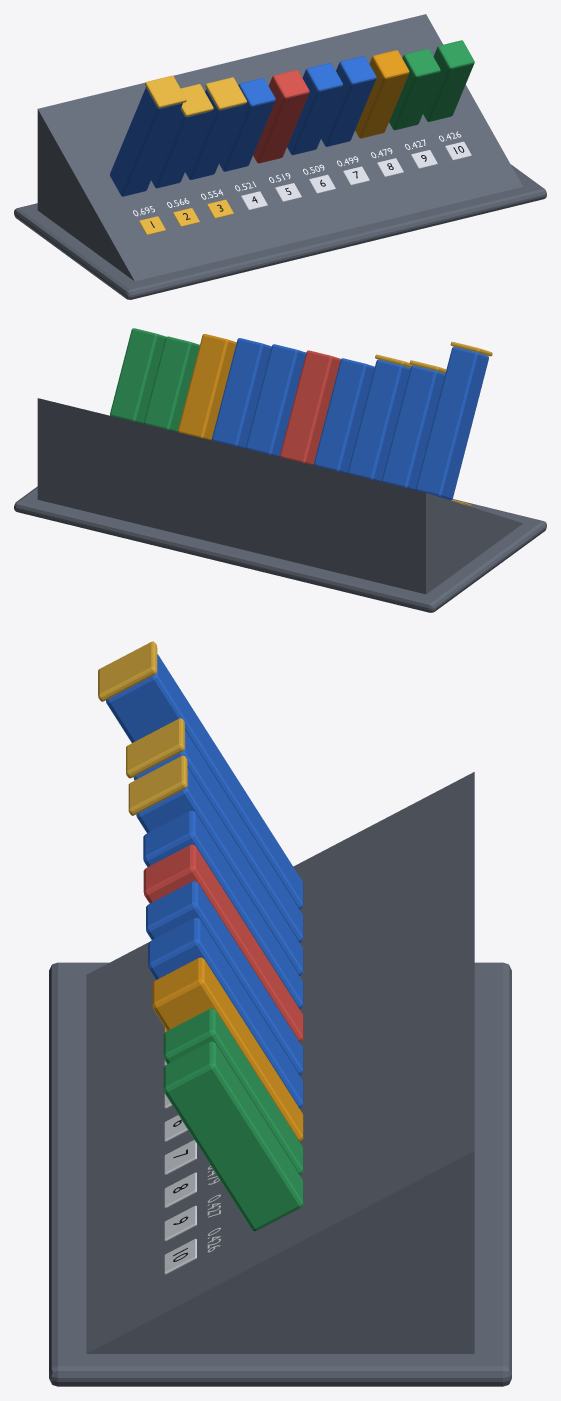
File: similarity.glb
The picture shows the model from 3 angles, top to bottom: view 1: azimuth 30°, elevation 25°; view 2: azimuth 150°, elevation 25°; view 3: azimuth 270°, elevation 25°; orthographic projection. The views are drawn at different scales.
Parts seen in each view (by area): view 1: slope, stand, c, c.004, c.005, c.006, c.003, c.007, c.009, c.008, c.001, c.002 (+4 smaller); view 2: slope, stand, c, c.001, c.002, c.003, c.004, c.005, c.006, c.007, c.008, c.009; view 3: slope, stand, c.009, c, c.007, c.006, c.004, c.005, c.003, c.002, c.008, c.001 (+3 smaller).
Part boxes in pixels (bbox=[...]): slope: bbox=[37, 14, 522, 281]; stand: bbox=[14, 164, 546, 299]; c: bbox=[110, 87, 182, 196]; c.004: bbox=[253, 70, 309, 163]; c.005: bbox=[287, 63, 342, 155]; c.006: bbox=[321, 56, 376, 146]; c.003: bbox=[219, 78, 275, 171]; c.007: bbox=[355, 50, 409, 138]; c.009: bbox=[423, 40, 474, 121]; c.008: bbox=[389, 48, 440, 130]; c.001: bbox=[151, 109, 209, 188]; c.002: bbox=[185, 89, 243, 179]; slope: bbox=[37, 398, 522, 594]; stand: bbox=[14, 486, 546, 612]; c: bbox=[415, 347, 488, 500]; c.001: bbox=[381, 365, 445, 490]; c.002: bbox=[347, 359, 410, 481]; c.003: bbox=[313, 358, 374, 473]; c.004: bbox=[279, 350, 340, 465]; c.005: bbox=[245, 344, 305, 456]; c.006: bbox=[211, 338, 271, 448]; c.007: bbox=[178, 334, 236, 440]; c.008: bbox=[144, 336, 199, 432]; c.009: bbox=[110, 328, 165, 423]; slope: bbox=[86, 772, 474, 1353]; stand: bbox=[49, 962, 511, 1386]; c.009: bbox=[163, 1041, 303, 1231]; c: bbox=[106, 654, 303, 909]; c.007: bbox=[152, 957, 303, 1141]; c.006: bbox=[148, 917, 303, 1108]; c.004: bbox=[143, 844, 303, 1042]; c.005: bbox=[146, 881, 303, 1075]; c.003: bbox=[143, 810, 303, 1008]; c.002: bbox=[136, 768, 303, 975]; c.008: bbox=[163, 1008, 303, 1174]; c.001: bbox=[133, 731, 303, 942].
Size of the model in its own units: 1.3 by 0.5628 by 0.6196.
